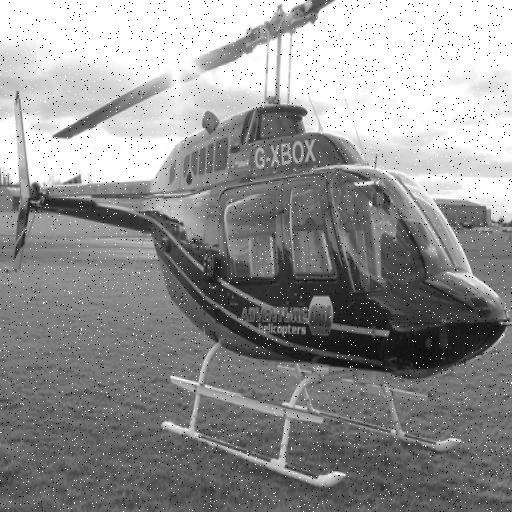helicopter: (12, 1, 512, 491)
